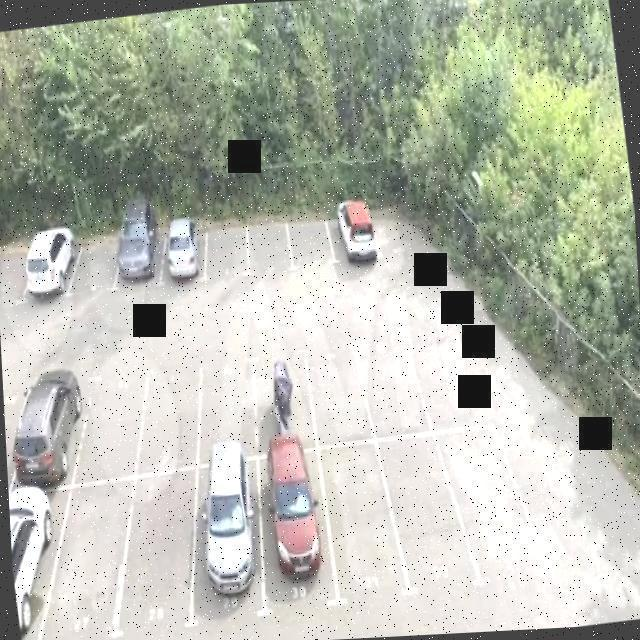space-empty: (104, 462, 214, 640), (32, 478, 143, 640), (434, 419, 536, 580), (314, 436, 399, 617), (381, 431, 455, 604), (64, 358, 149, 485), (190, 346, 263, 465), (132, 359, 204, 472), (355, 325, 419, 437), (305, 340, 370, 441), (57, 224, 128, 309), (200, 219, 255, 299), (241, 215, 291, 285), (0, 231, 33, 328), (3, 377, 31, 491), (283, 214, 331, 275)
space-occupied: (182, 453, 275, 637), (247, 447, 337, 620), (7, 365, 95, 495), (8, 484, 81, 640), (248, 351, 319, 456), (16, 221, 77, 320), (107, 219, 174, 308), (323, 202, 380, 279), (160, 219, 209, 297)
